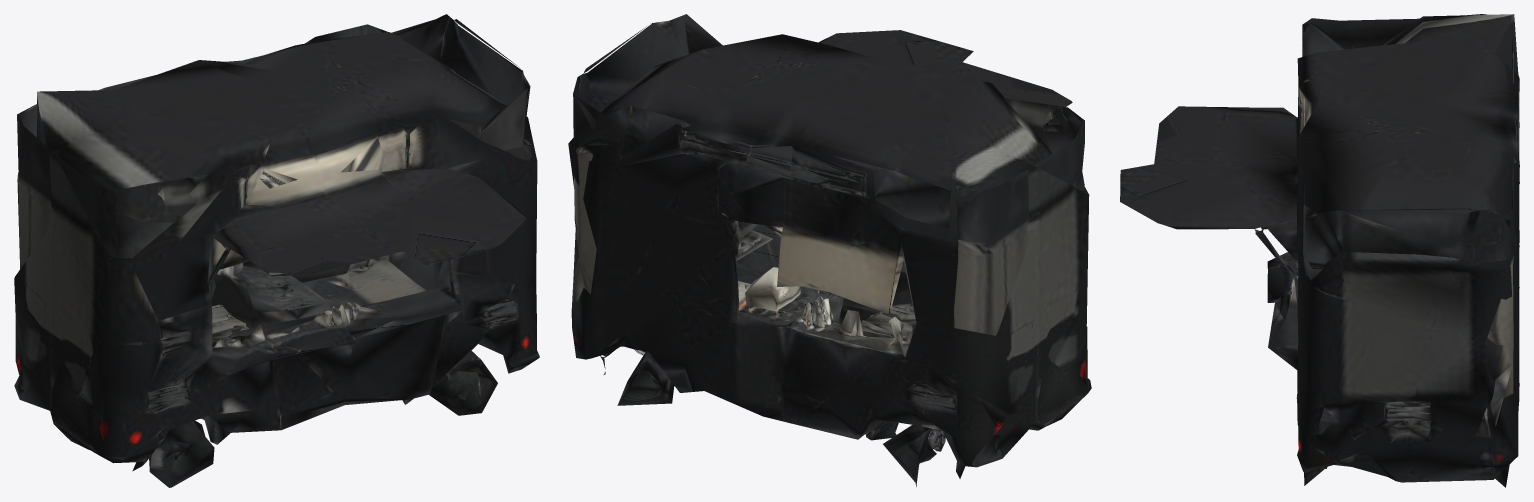
File: food_truck_p.glb
3 views of the same model, side by side, from view 1: azimuth 30°, elevation 25°; view 2: azimuth 150°, elevation 25°; view 3: azimuth 270°, elevation 25° (orthographic). The views are drawn at different scales.
Bounding box in the file's own units: 1.9 × 1.37 × 1.55.
1 material, 1 textured.
